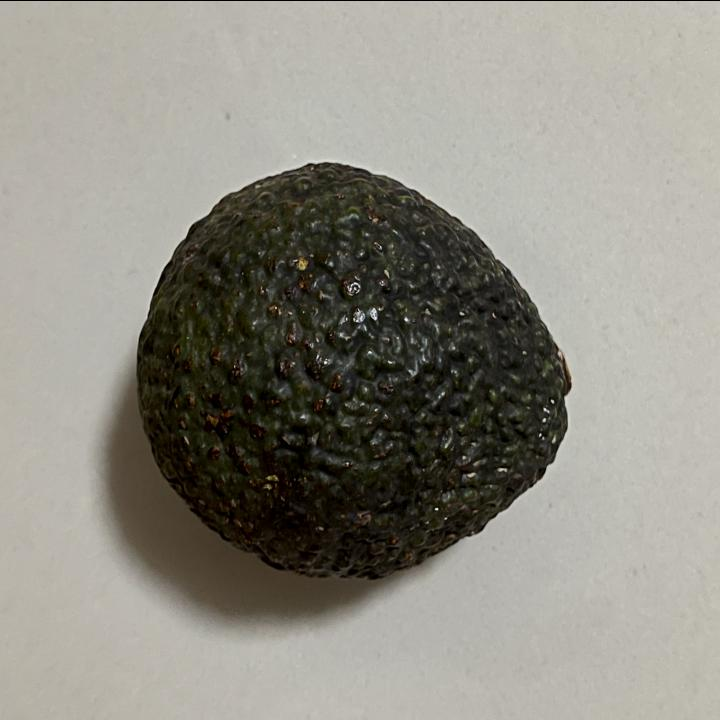Level1: (118, 141, 586, 604)
